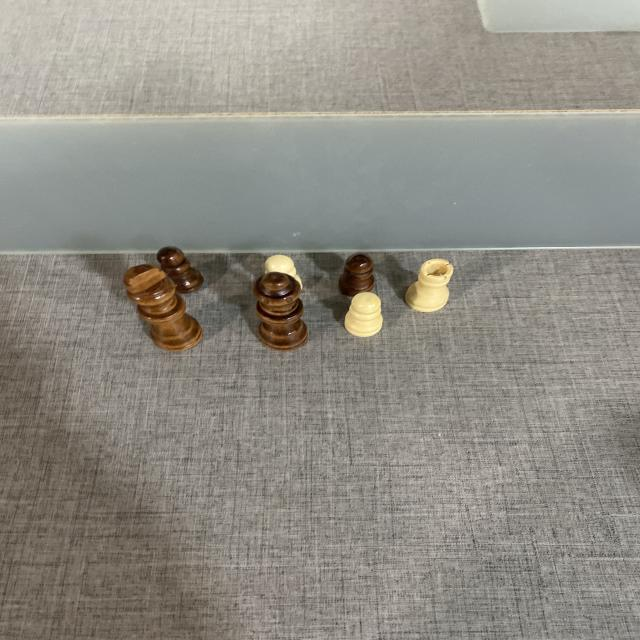Black-King: (121, 266, 201, 350)
Black-Pawn: (158, 246, 205, 291), (339, 252, 378, 296)
Black-Queen: (252, 271, 310, 350)
White-Pawn: (345, 293, 383, 336), (262, 254, 301, 280)
White-Rook: (406, 258, 456, 312)
